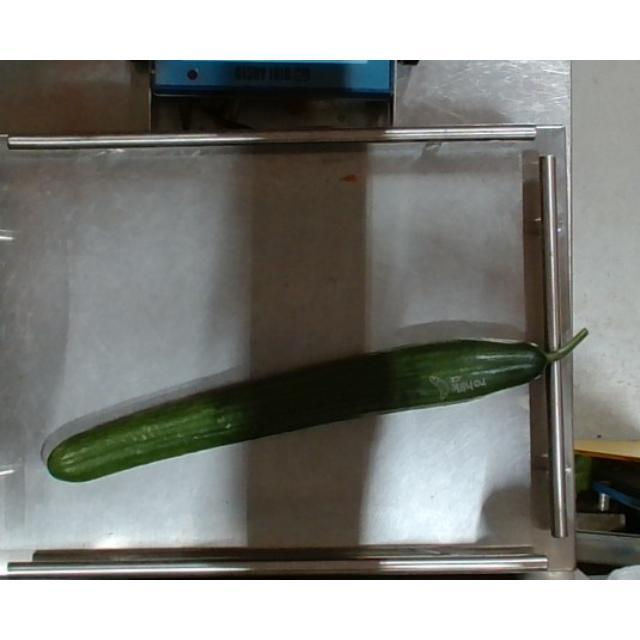cucumber: (46, 326, 588, 482)
